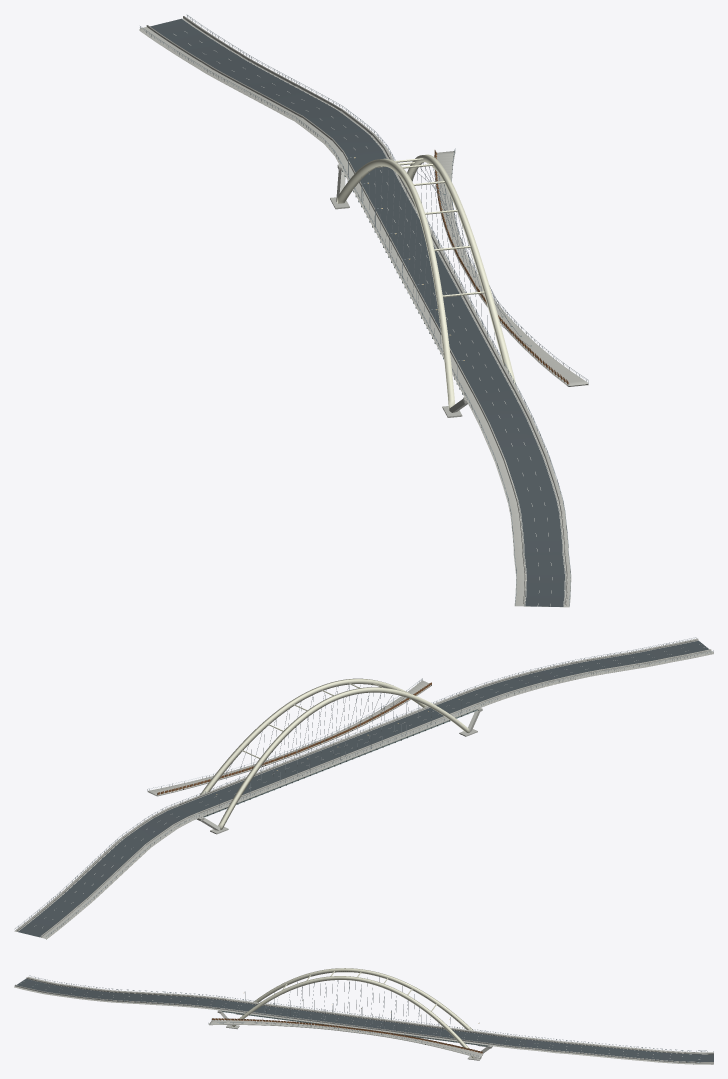
File: walterdale-bridge-near.glb
3 views of the same model, one above another, from view 1: azimuth 30°, elevation 25°; view 2: azimuth 150°, elevation 25°; view 3: azimuth 270°, elevation 25° (orthographic). The views are drawn at different scales.
Parts seen in each view (by area): view 1: walterdale-bridge-0-asphalt, walterdale-bridge-1-asphalt, walterdale-bridge-1-concrete, walterdale-bridge-2-asphalt, walterdale-bridge-1-arch, walterdale-bridge-0-concrete, walterdale-bridge-2-concrete, walterdale-bridge-1-cable, walterdale-bridge-1-rail; view 2: walterdale-bridge-1-concrete, walterdale-bridge-1-asphalt, walterdale-bridge-2-asphalt, walterdale-bridge-1-arch, walterdale-bridge-0-asphalt, walterdale-bridge-0-concrete, walterdale-bridge-2-concrete, walterdale-bridge-1-cable, walterdale-bridge-1-rail, walterdale-bridge-1-wood, walterdale-bridge-0-rail, walterdale-bridge-1-girder (+1 smaller); view 3: walterdale-bridge-1-concrete, walterdale-bridge-1-arch, walterdale-bridge-1-asphalt, walterdale-bridge-2-asphalt, walterdale-bridge-0-asphalt, walterdale-bridge-2-concrete, walterdale-bridge-0-concrete, walterdale-bridge-1-cable, walterdale-bridge-1-rail, walterdale-bridge-1-wood, walterdale-bridge-1-girder, walterdale-bridge-2-rail (+1 smaller).
Part boxes in pixels (bbox=[...]): walterdale-bridge-0-asphalt: bbox=[475, 390, 565, 606]; walterdale-bridge-1-asphalt: bbox=[349, 158, 511, 394]; walterdale-bridge-1-concrete: bbox=[330, 151, 588, 417]; walterdale-bridge-2-asphalt: bbox=[150, 18, 386, 161]; walterdale-bridge-1-arch: bbox=[337, 154, 516, 410]; walterdale-bridge-0-concrete: bbox=[464, 388, 571, 607]; walterdale-bridge-2-concrete: bbox=[139, 16, 392, 163]; walterdale-bridge-1-cable: bbox=[361, 163, 529, 347]; walterdale-bridge-1-rail: bbox=[339, 148, 588, 394]; walterdale-bridge-1-concrete: bbox=[148, 680, 482, 834]; walterdale-bridge-1-asphalt: bbox=[180, 697, 473, 812]; walterdale-bridge-2-asphalt: bbox=[17, 806, 195, 937]; walterdale-bridge-1-arch: bbox=[199, 678, 469, 830]; walterdale-bridge-0-asphalt: bbox=[458, 640, 708, 703]; walterdale-bridge-0-concrete: bbox=[457, 638, 713, 707]; walterdale-bridge-2-concrete: bbox=[14, 803, 202, 939]; walterdale-bridge-1-cable: bbox=[226, 685, 431, 793]; walterdale-bridge-1-rail: bbox=[147, 678, 479, 814]; walterdale-bridge-1-wood: bbox=[157, 682, 431, 794]; walterdale-bridge-0-rail: bbox=[456, 637, 713, 705]; walterdale-bridge-1-girder: bbox=[201, 706, 477, 817]; walterdale-bridge-1-concrete: bbox=[209, 998, 497, 1060]; walterdale-bridge-1-arch: bbox=[232, 968, 474, 1058]; walterdale-bridge-1-asphalt: bbox=[221, 1000, 495, 1042]; walterdale-bridge-2-asphalt: bbox=[491, 1036, 713, 1061]; walterdale-bridge-0-asphalt: bbox=[17, 978, 225, 1007]; walterdale-bridge-2-concrete: bbox=[489, 1034, 713, 1064]; walterdale-bridge-0-concrete: bbox=[14, 976, 227, 1010]; walterdale-bridge-1-cable: bbox=[261, 977, 450, 1043]; walterdale-bridge-1-rail: bbox=[208, 991, 495, 1057]; walterdale-bridge-1-wood: bbox=[212, 1018, 482, 1053]; walterdale-bridge-1-girder: bbox=[221, 1010, 488, 1046]; walterdale-bridge-2-rail: bbox=[490, 1032, 713, 1063].
Size of the model in its own units: 184 by 56.86 by 570.
